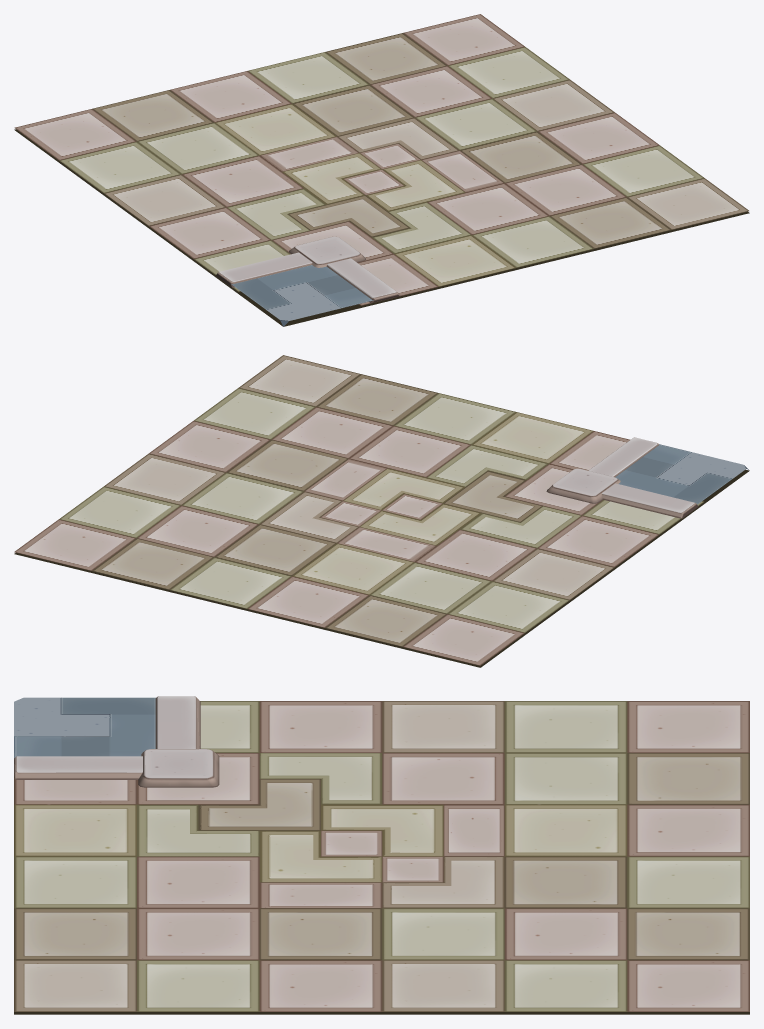
Rendered from road_openOneCorner.glb.
3 renders of one model, top to bottom at view 1: azimuth 30°, elevation 25°; view 2: azimuth 150°, elevation 25°; view 3: azimuth 270°, elevation 25°, orthographic. The views are drawn at different scales.
Visible parts, largest first — view 1: road_06; view 2: road_06; view 3: road_06.
Boxes of the visible parts, x1=… form: road_06: x1=14, y1=14, x2=749, y2=326; road_06: x1=14, y1=355, x2=749, y2=667; road_06: x1=14, y1=696, x2=749, y2=1014.
Size of what is drawn, in the model's own units: 16 by 0.2304 by 16.
1 material, 1 textured.
